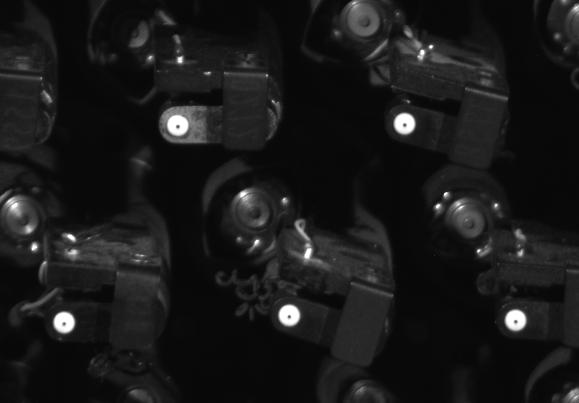fiber: (50, 306, 82, 340), (500, 303, 532, 336), (389, 109, 423, 139), (163, 111, 196, 141), (274, 300, 307, 329)
